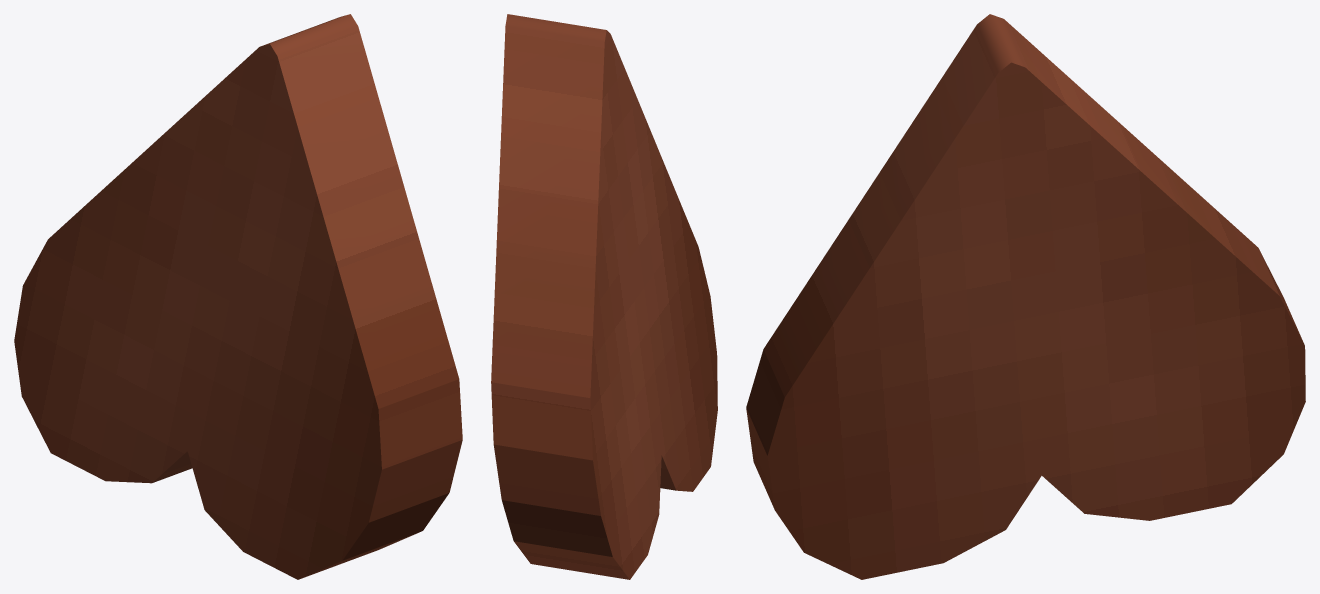
Rendered from H_HeartChocolate.fbx.
3 renders of one model, left to right at view 1: azimuth 30°, elevation 25°; view 2: azimuth 150°, elevation 25°; view 3: azimuth 270°, elevation 25°, orthographic. The views are drawn at different scales.
Visible parts, largest first — view 1: ChocolateHeartbox; view 2: ChocolateHeartbox; view 3: ChocolateHeartbox.
Boxes of the visible parts, x1=… form: ChocolateHeartbox: x1=14, y1=14, x2=462, y2=579; ChocolateHeartbox: x1=491, y1=14, x2=717, y2=579; ChocolateHeartbox: x1=746, y1=14, x2=1305, y2=579.
Size of the model in its own units: 9.45 by 19.17 by 18.02.
